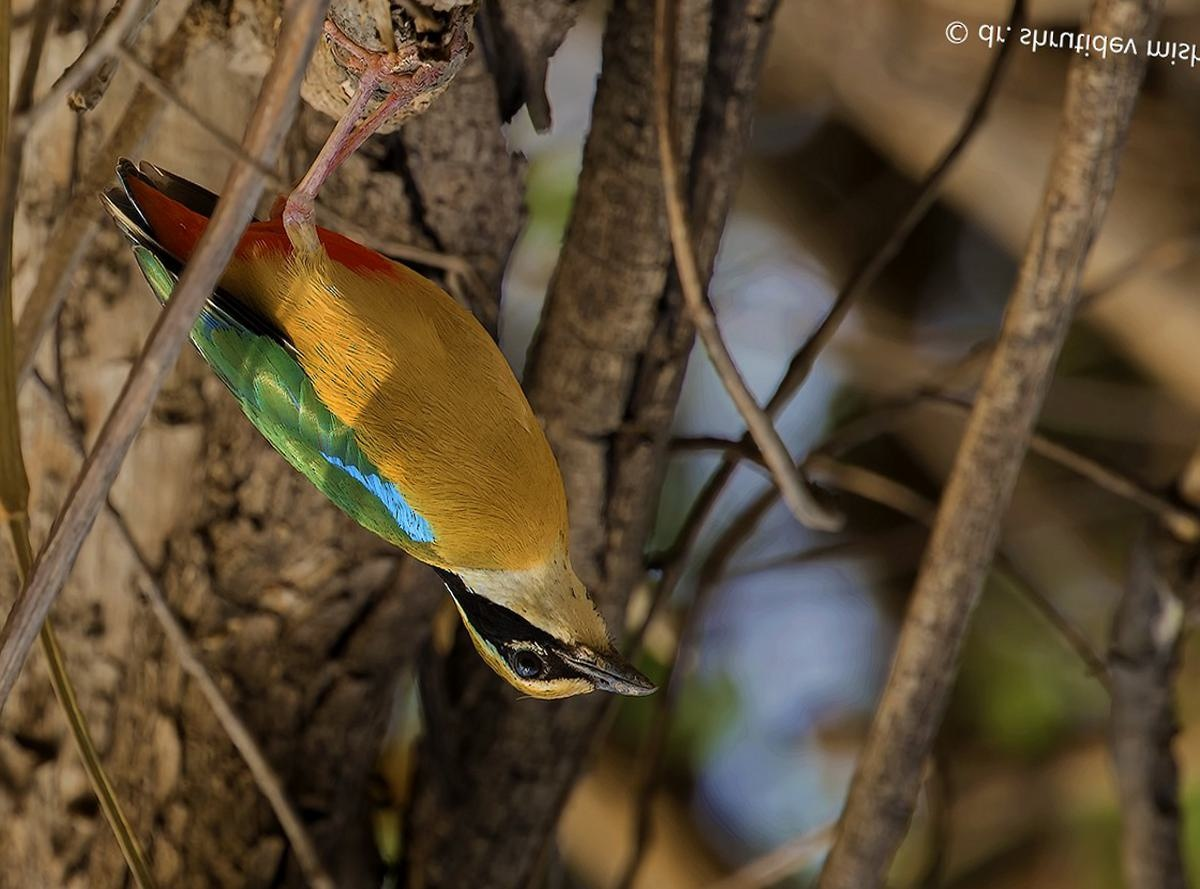pitta: (86, 92, 669, 719)
